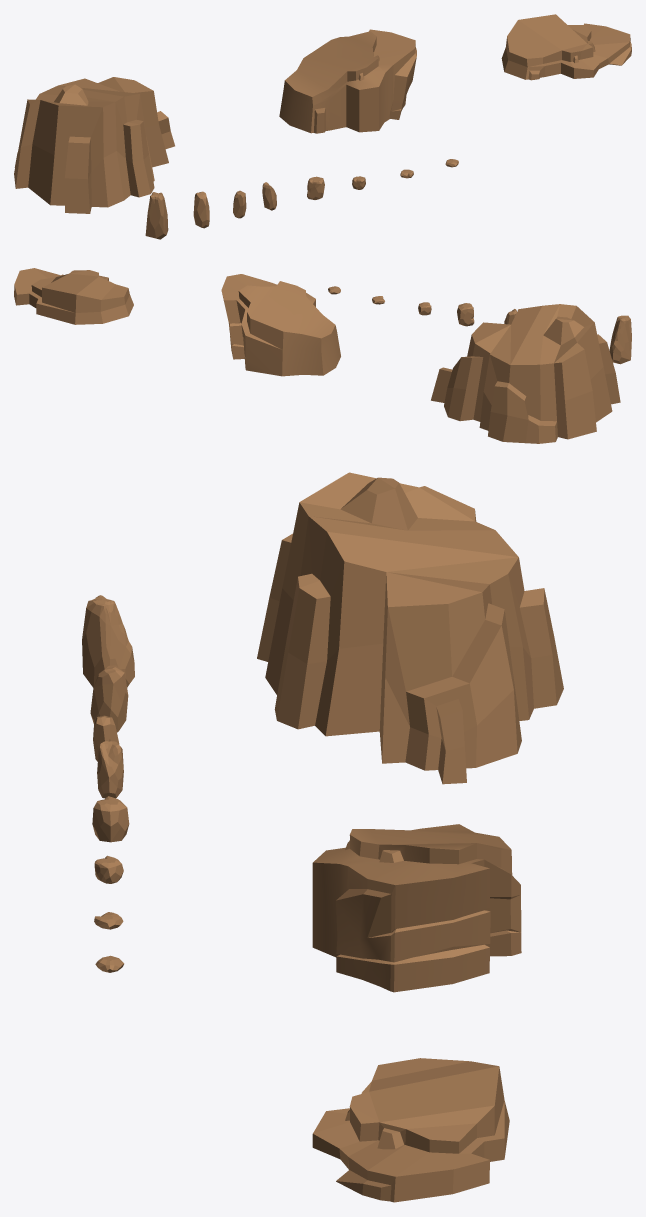
The model's file is JungleRocks.fbx.
3 renders of one model, top to bottom at view 1: azimuth 30°, elevation 25°; view 2: azimuth 150°, elevation 25°; view 3: azimuth 270°, elevation 25°, orthographic. The views are drawn at different scales.
Parts seen in each view (by area): view 1: Rock_large_01, Rock_large_02, Rock_large_03, rock_med_01, rock_med_02, rock_small_01, rock_med_04; view 2: Rock_large_01, Rock_large_02, Rock_large_03, rock_med_01, rock_small_01; view 3: Rock_large_01, Rock_large_02, Rock_large_03, rock_med_01, rock_med_02, rock_small_01, rock_med_04.
Boxes of the visible parts, bbox=[...] form: Rock_large_01: bbox=[14, 77, 174, 213]; Rock_large_02: bbox=[279, 29, 416, 133]; Rock_large_03: bbox=[501, 14, 631, 80]; rock_med_01: bbox=[145, 192, 168, 239]; rock_med_02: bbox=[193, 191, 209, 228]; rock_small_01: bbox=[307, 176, 324, 199]; rock_med_04: bbox=[262, 182, 276, 210]; Rock_large_01: bbox=[431, 304, 620, 443]; Rock_large_02: bbox=[221, 274, 340, 376]; Rock_large_03: bbox=[14, 268, 133, 324]; rock_med_01: bbox=[609, 315, 631, 364]; rock_small_01: bbox=[457, 303, 474, 326]; Rock_large_01: bbox=[257, 472, 563, 784]; Rock_large_02: bbox=[312, 824, 521, 992]; Rock_large_03: bbox=[312, 1058, 509, 1202]; rock_med_01: bbox=[82, 595, 134, 687]; rock_med_02: bbox=[90, 665, 128, 732]; rock_small_01: bbox=[92, 796, 129, 842]; rock_med_04: bbox=[97, 741, 123, 798].
Size of the model in its own units: 43.87 by 6.99 by 15.65.
